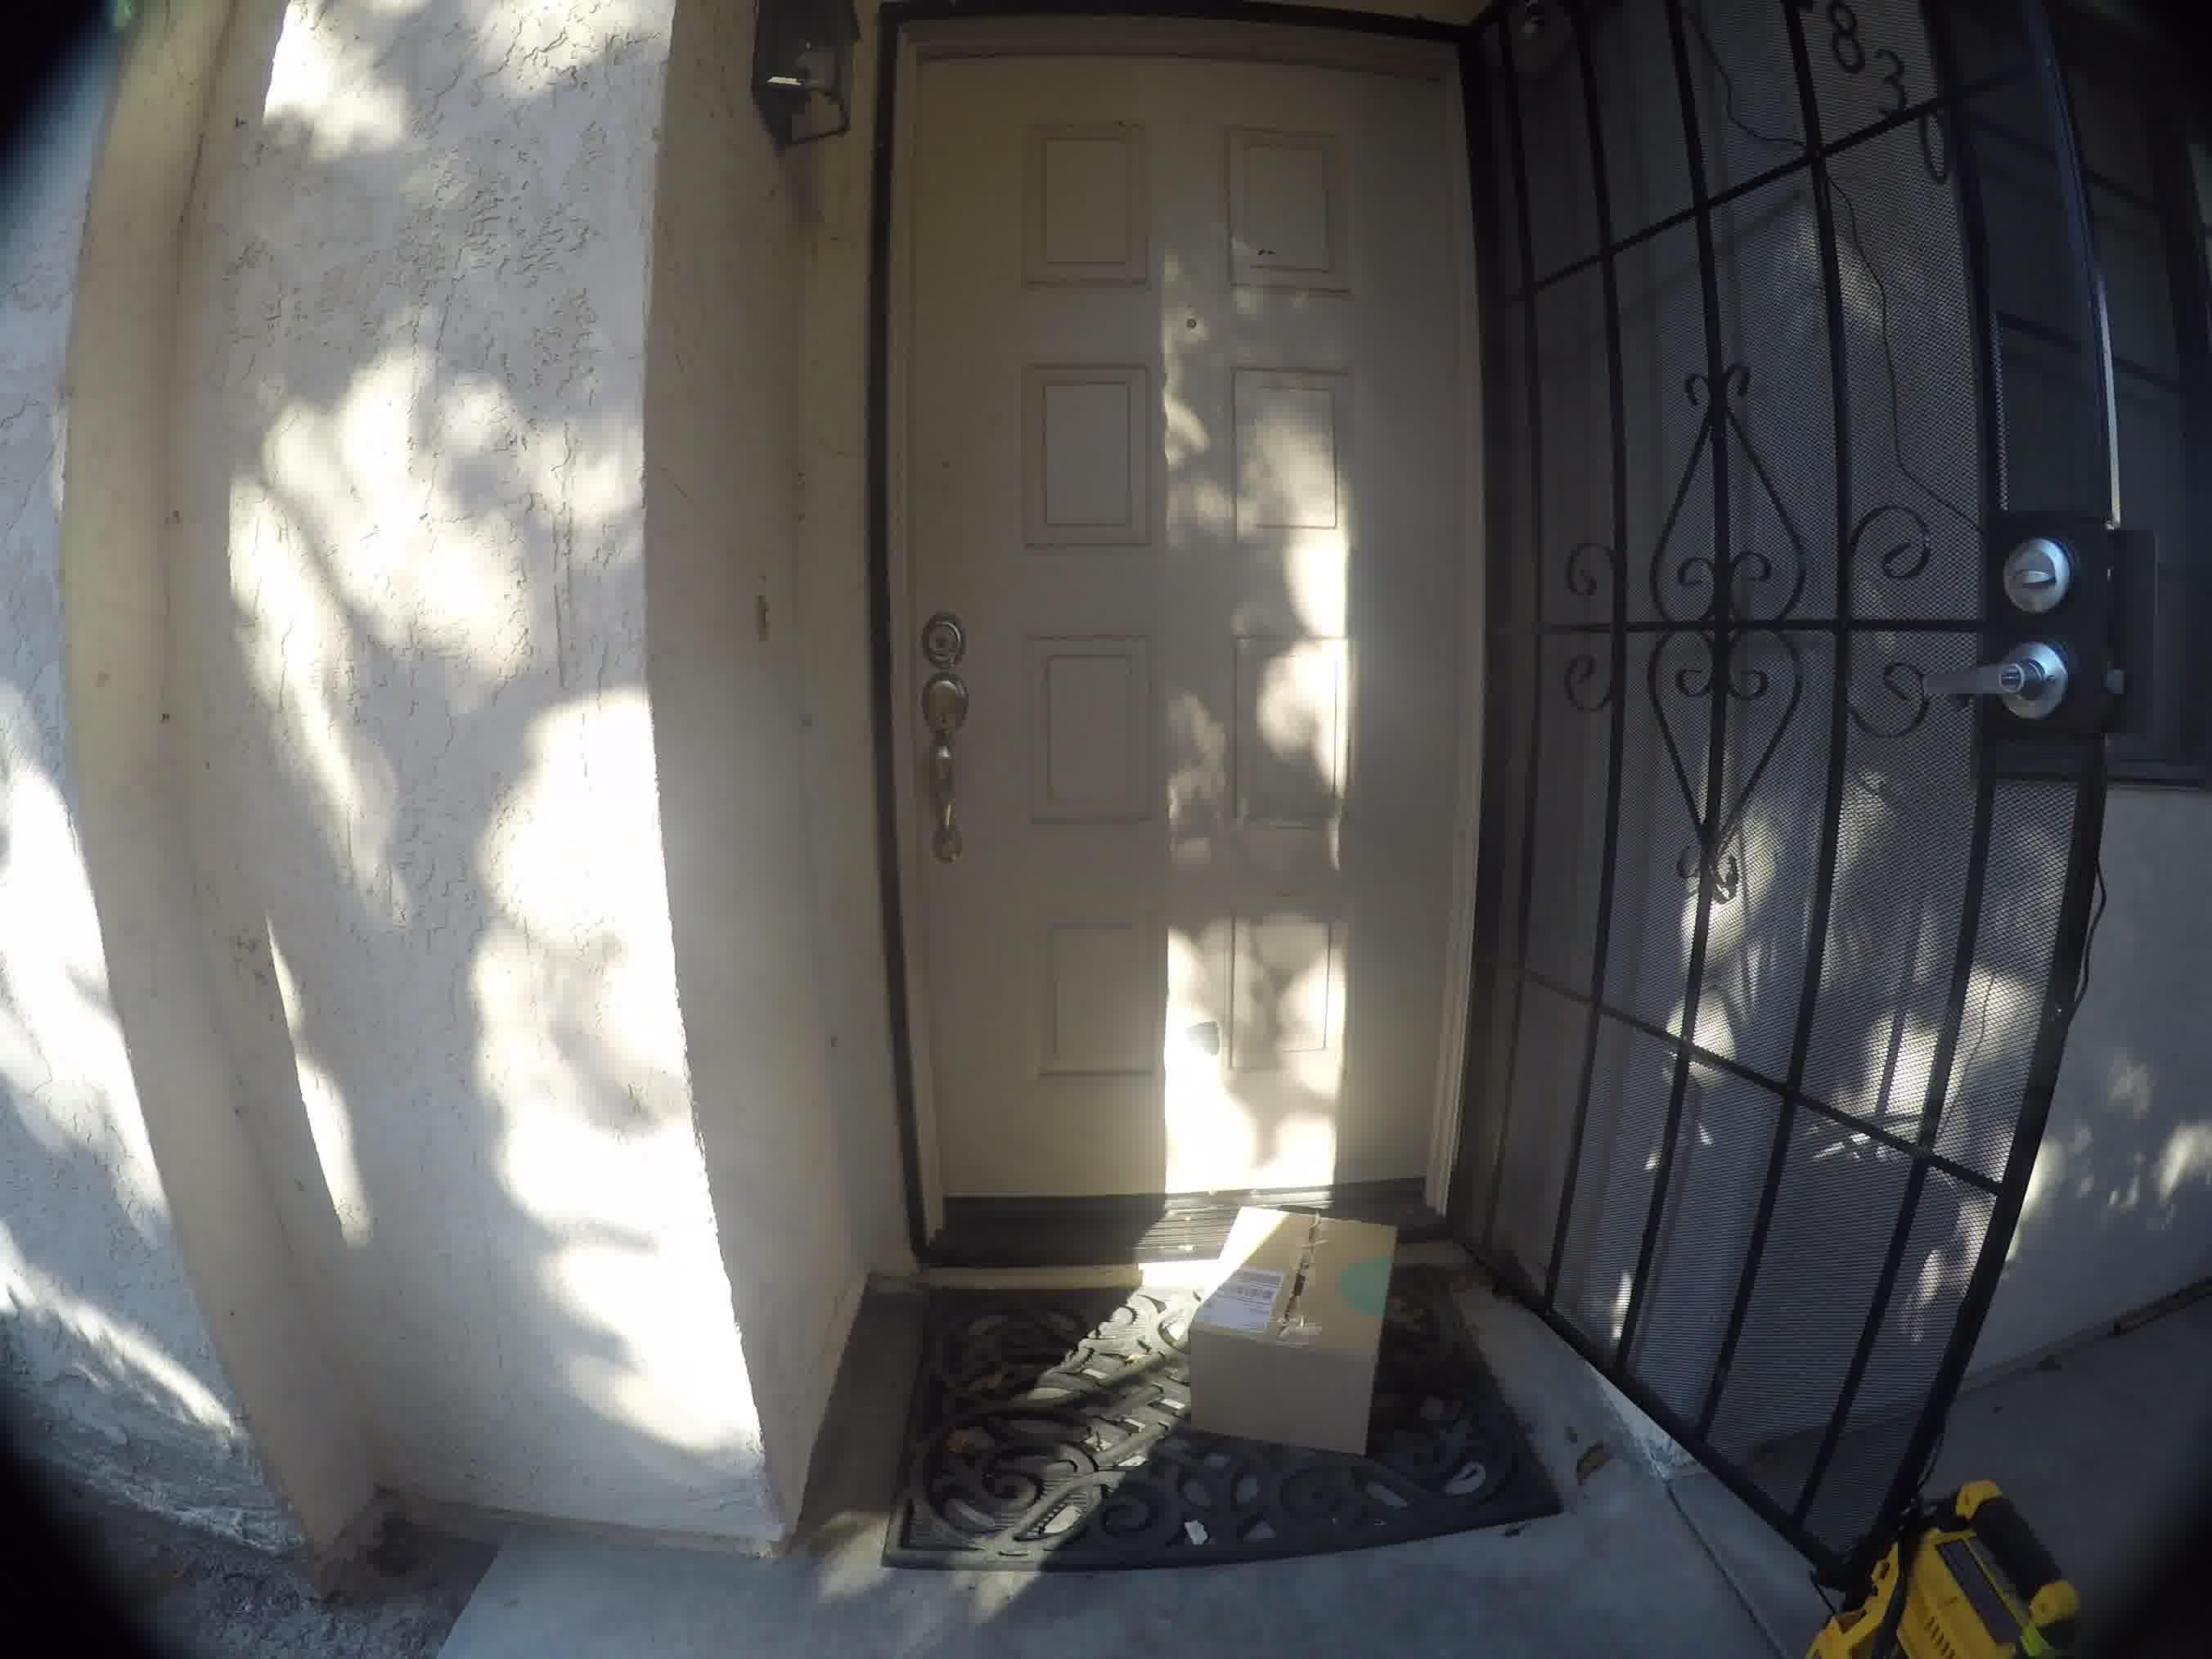box: (1200, 1185, 1402, 1485)
